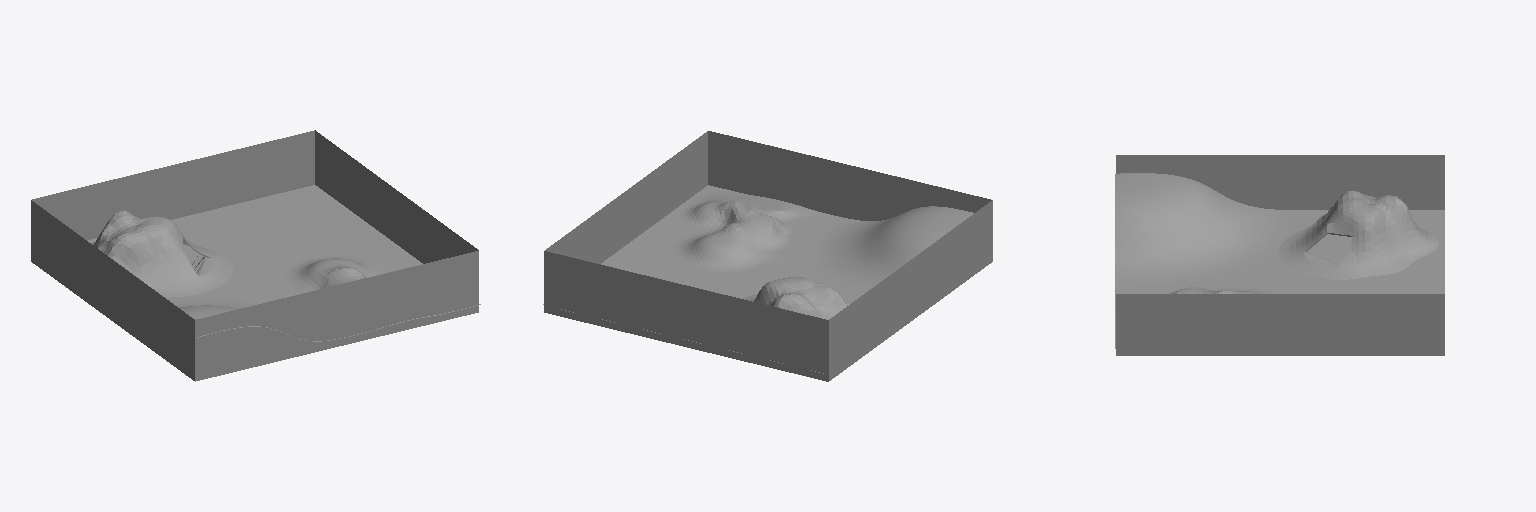
File: test_map.obj
3 views of the same model, side by side, from view 1: azimuth 30°, elevation 25°; view 2: azimuth 150°, elevation 25°; view 3: azimuth 270°, elevation 25° (orthographic).
Visible parts, largest first — view 1: Plane.003_Plane.004; view 2: Plane.003_Plane.004; view 3: Plane.003_Plane.004.
Part boxes in pixels (left/top/right/bottom): Plane.003_Plane.004: left=31, top=130, right=480, bottom=381; Plane.003_Plane.004: left=543, top=131, right=992, bottom=381; Plane.003_Plane.004: left=1115, top=155, right=1444, bottom=355.
Size of the model in its own units: 114 by 23.64 by 114.